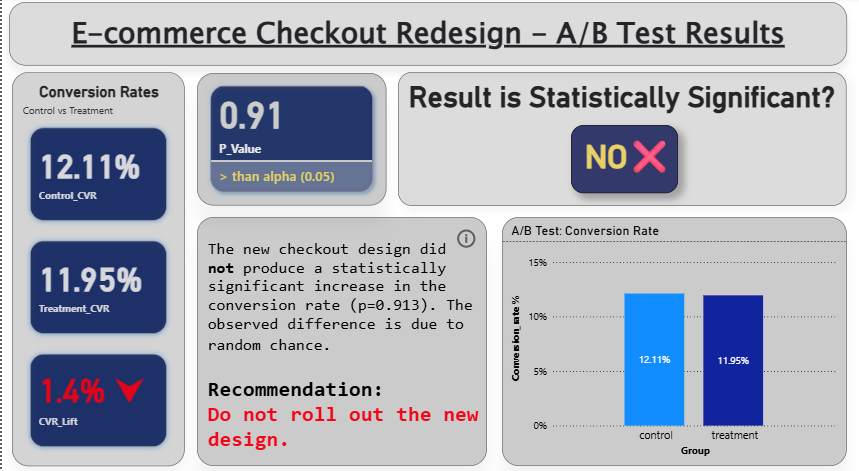

This screenshot's page, from the dashboard's own definition file:
{"tool":"powerbi","page":{"name":"Page 1","canvas":[1280,720],"ordinal":0},"visuals":[{"type":"kpi","title":"Control_CVR","fields":{"Indicator":["Table.Control_CVR"],"TrendLine":["Table.Group"]},"box":[13.3,91.7,195,116.7],"z":0},{"type":"kpi","title":"Treatment_CVR","fields":{"Indicator":["Table.Treatment_CVR"],"TrendLine":["Table.Group"]},"box":[220,90,221.7,118.3],"z":1000},{"type":"kpi","title":"CVR_Lift","fields":{"TrendLine":["Table.Group"],"Indicator":["Table.CVR_Lift_1"]},"box":[455,90,210,118.3],"z":2000},{"type":"textbox","title":"Result is Statistically Significant?","box":[893.3,90,368.3,118.3],"z":3000},{"type":"textbox","box":[10.5,17.9,1251.8,71.7],"z":4000},{"type":"textbox","title":"p-value","box":[678.3,88.3,203.3,120],"z":5000},{"type":"columnChart","title":"A/B Test: Conversion Rate","fields":{"Category":["Table.Group"],"Series":["Table.Group"],"Y":["Sum(Table.Percentage)"]},"box":[13.3,236.7,546.7,465],"z":6000},{"type":"textbox","box":[585,236.7,676.7,465],"z":7000}]}

Visuals, with their boxes in screenshot pixels (x1, y1, x2, y2), scaled from the page's 1280x720 canvas onto the 859x471 screenshot:
"Control_CVR" kpi: detection(9, 60, 140, 136)
"Treatment_CVR" kpi: detection(148, 59, 296, 136)
"CVR_Lift" kpi: detection(305, 59, 446, 136)
"Result is Statistically Significant?" textbox: detection(599, 59, 847, 136)
textbox: detection(7, 12, 847, 59)
"p-value" textbox: detection(455, 58, 592, 136)
"A/B Test: Conversion Rate" columnChart: detection(9, 155, 376, 459)
textbox: detection(393, 155, 847, 459)
